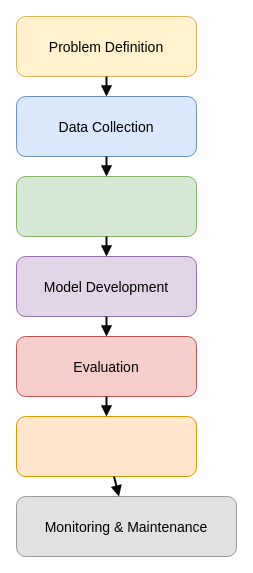
Some shapes in this 253 by 573 pixel diagram are drawn without their labels. Here are the shapes that lost their labels. From the top down, the centre of each, then its label:
point (106, 206): Data Preprocessing
point (106, 446): Deployment
